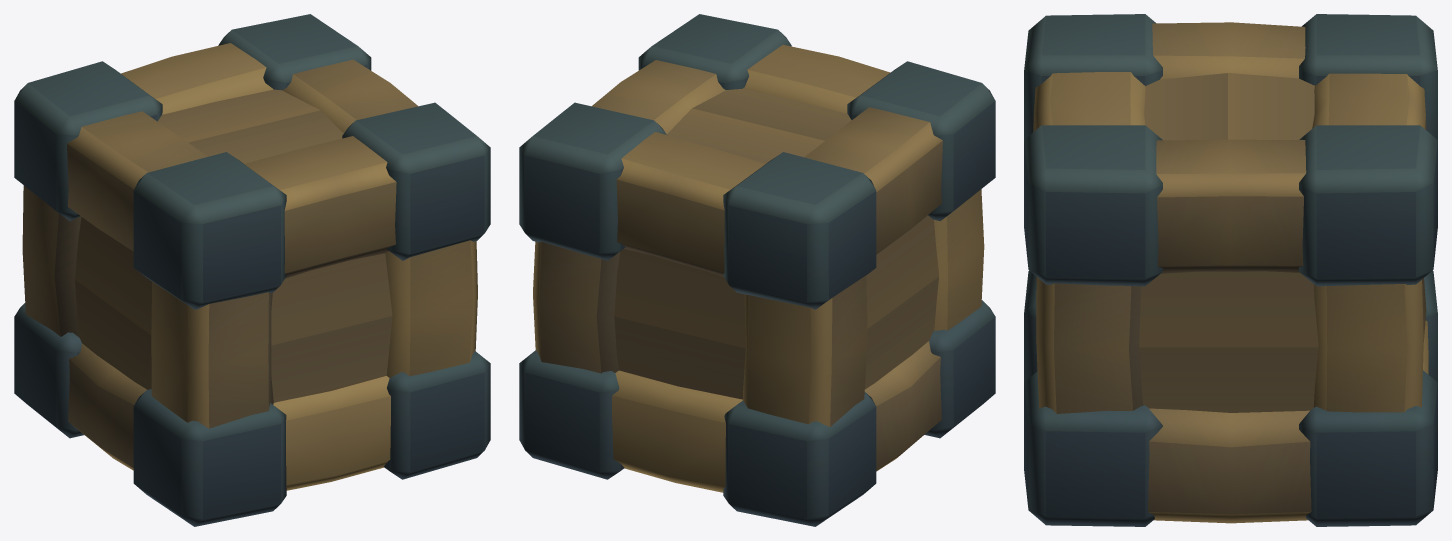
File: box_wooden_3_destructible.fbx
3 renders of one model, left to right at view 1: azimuth 30°, elevation 25°; view 2: azimuth 150°, elevation 25°; view 3: azimuth 270°, elevation 25°, orthographic. The views are drawn at different scales.
Parts seen in each view (by area): view 1: box_wooden_3_part7, box_wooden_3_part6, box_wooden_3_part1, box_wooden_3_part4, box_wooden_3_part3, box_wooden_3_part2, box_wooden_3_part5, box_wooden_3_part8; view 2: box_wooden_3_part3, box_wooden_3_part6, box_wooden_3_part8, box_wooden_3_part7, box_wooden_3_part2, box_wooden_3_part4, box_wooden_3_part5, box_wooden_3_part1; view 3: box_wooden_3_part1, box_wooden_3_part2, box_wooden_3_part8, box_wooden_3_part7, box_wooden_3_part6, box_wooden_3_part4, box_wooden_3_part3.
Boxes of the visible parts, <box> form: box_wooden_3_part7: <box>133,152,490,526</box>; box_wooden_3_part6: <box>14,43,273,251</box>; box_wooden_3_part1: <box>342,102,490,377</box>; box_wooden_3_part4: <box>158,89,396,278</box>; box_wooden_3_part3: <box>14,185,83,438</box>; box_wooden_3_part2: <box>218,14,417,132</box>; box_wooden_3_part5: <box>75,217,151,389</box>; box_wooden_3_part8: <box>68,343,146,470</box>; box_wooden_3_part3: <box>533,241,876,526</box>; box_wooden_3_part6: <box>616,107,942,309</box>; box_wooden_3_part8: <box>519,341,941,492</box>; box_wooden_3_part7: <box>847,61,995,438</box>; box_wooden_3_part2: <box>519,60,725,260</box>; box_wooden_3_part4: <box>667,44,890,163</box>; box_wooden_3_part5: <box>864,215,938,389</box>; box_wooden_3_part1: <box>638,14,791,89</box>; box_wooden_3_part1: <box>1024,125,1318,413</box>; box_wooden_3_part2: <box>1156,125,1437,286</box>; box_wooden_3_part8: <box>1148,320,1437,526</box>; box_wooden_3_part7: <box>1024,14,1162,526</box>; box_wooden_3_part6: <box>1152,14,1437,139</box>; box_wooden_3_part4: <box>1033,72,1314,140</box>; box_wooden_3_part3: <box>1313,270,1437,412</box>.
Size of the model in its own units: 106 by 104 by 108.
Materials: 1 (1 with a texture image).
